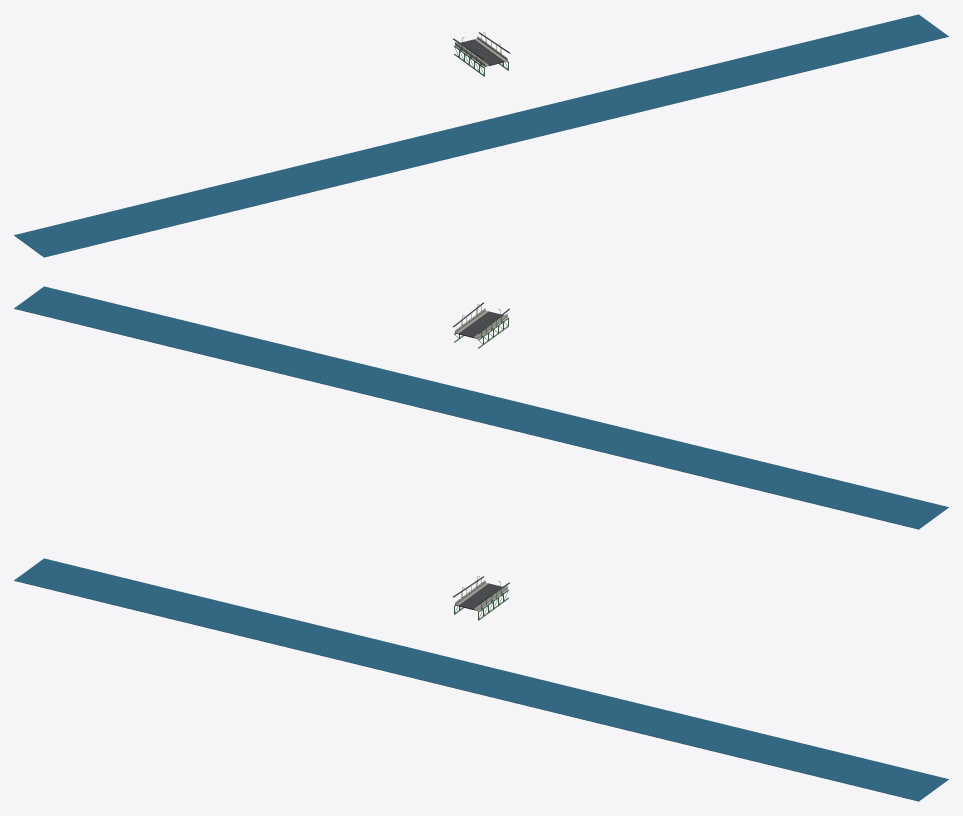
The model's file is puente_amb_5.glb.
3 renders of one model, top to bottom at view 1: azimuth 30°, elevation 25°; view 2: azimuth 150°, elevation 25°; view 3: azimuth 330°, elevation 25°, orthographic.
Visible parts, largest first — view 1: puente_amb_5; view 2: puente_amb_5; view 3: puente_amb_5.
Part boxes in pixels (x1,y1,x2,y2): puente_amb_5: (14, 14, 948, 257); puente_amb_5: (14, 286, 948, 529); puente_amb_5: (14, 558, 948, 801).
Size of the model in its own units: 520 by 52.52 by 30.23.
Materials: 1 (1 with a texture image).
